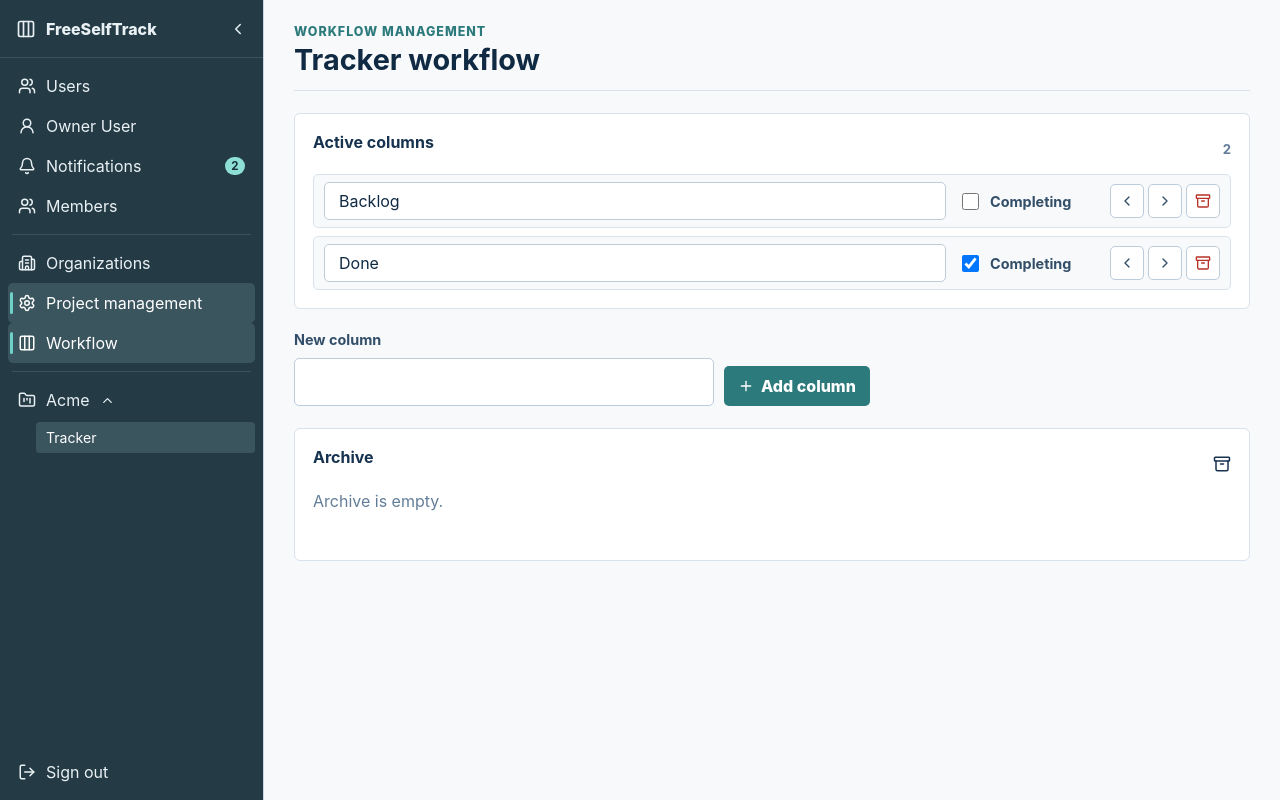
Test: restores workflow from its URL and persists collapsed sidebar with a project flyout
Expected: the heading "Tracker workflow" is shown, [294,42,540,77]
Click the 2nd checkbox labelled "Completing": {"x": 970, "y": 263} [962,255,979,272]
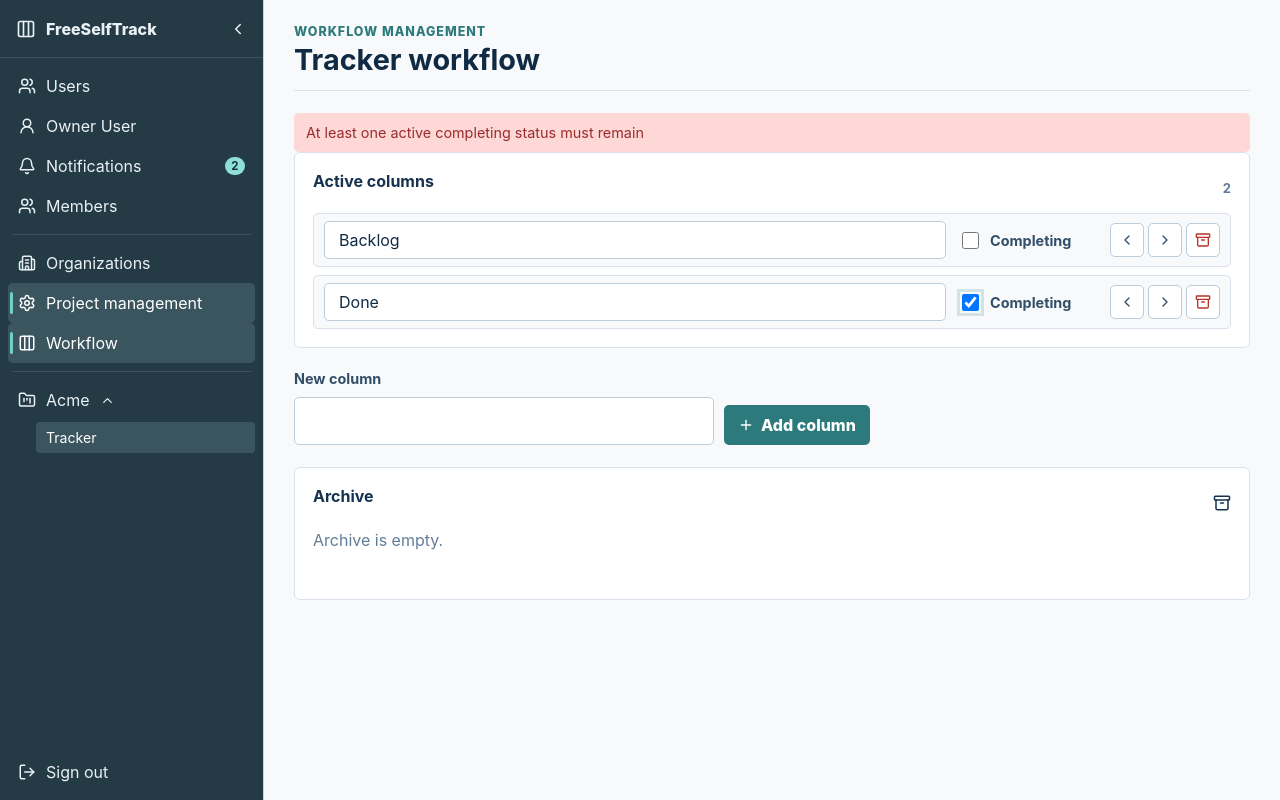
Expected: the 2nd checkbox labelled "Completing" is checked, [962,294,979,311]
Expected: the message reads "At least one active completing status must remain", [306,124,644,141]
Click the button named "Collapse sidebar": {"x": 238, "y": 28} [221,12,255,46]
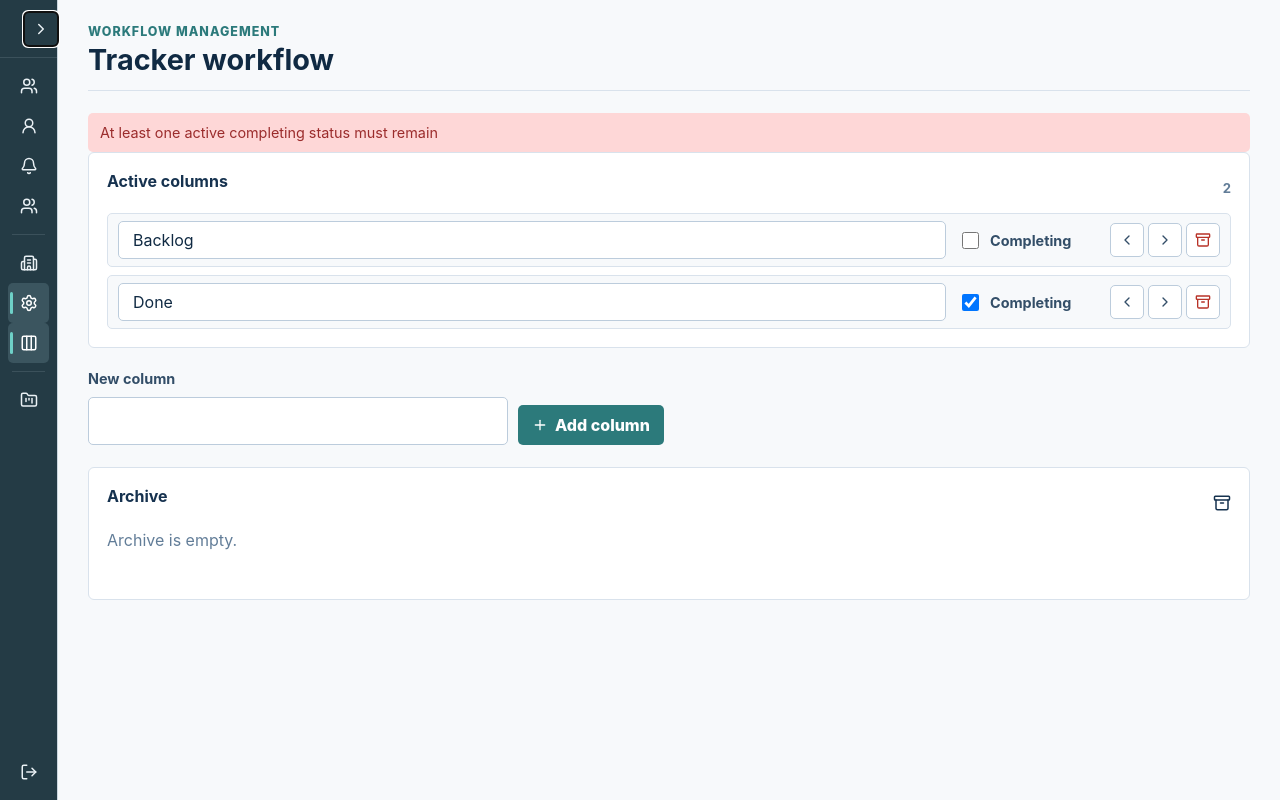
Click the button named "Acme": {"x": 28, "y": 400} [8,380,49,420]
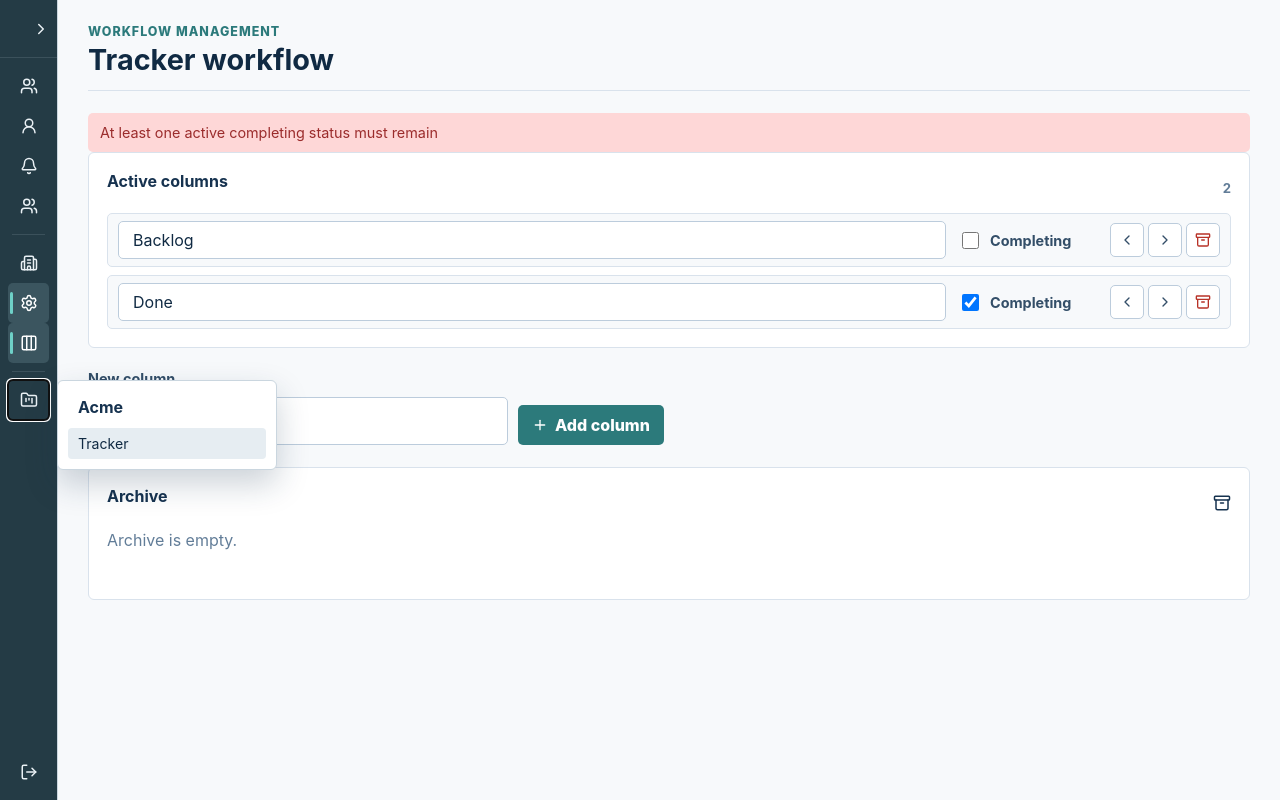
Expected: the menu is shown, [57,380,277,470]
Press Escape
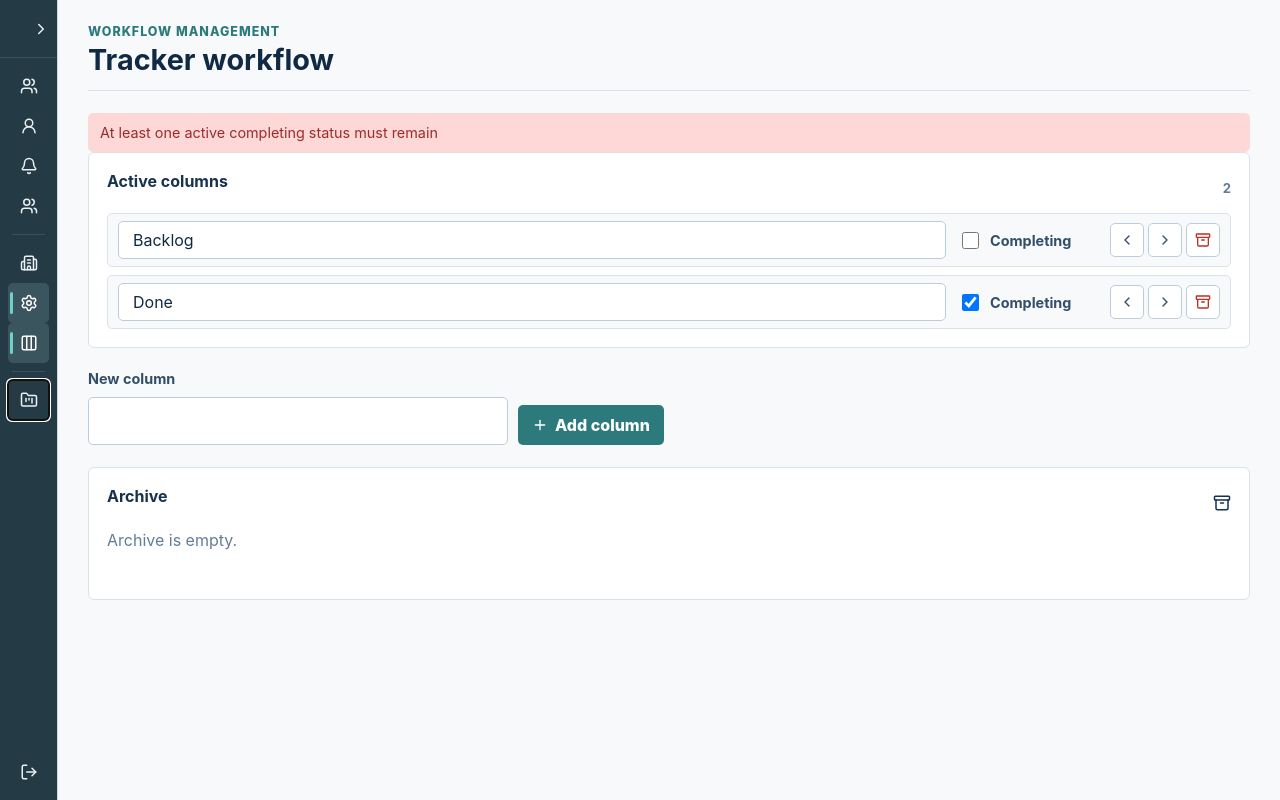
Expected: the menu is gone
